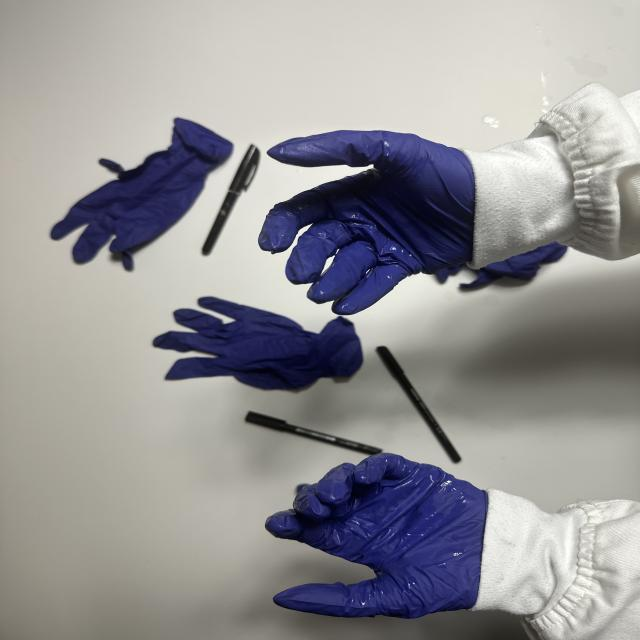gloves_contaminated: (259, 131, 476, 315), (265, 453, 488, 618)
